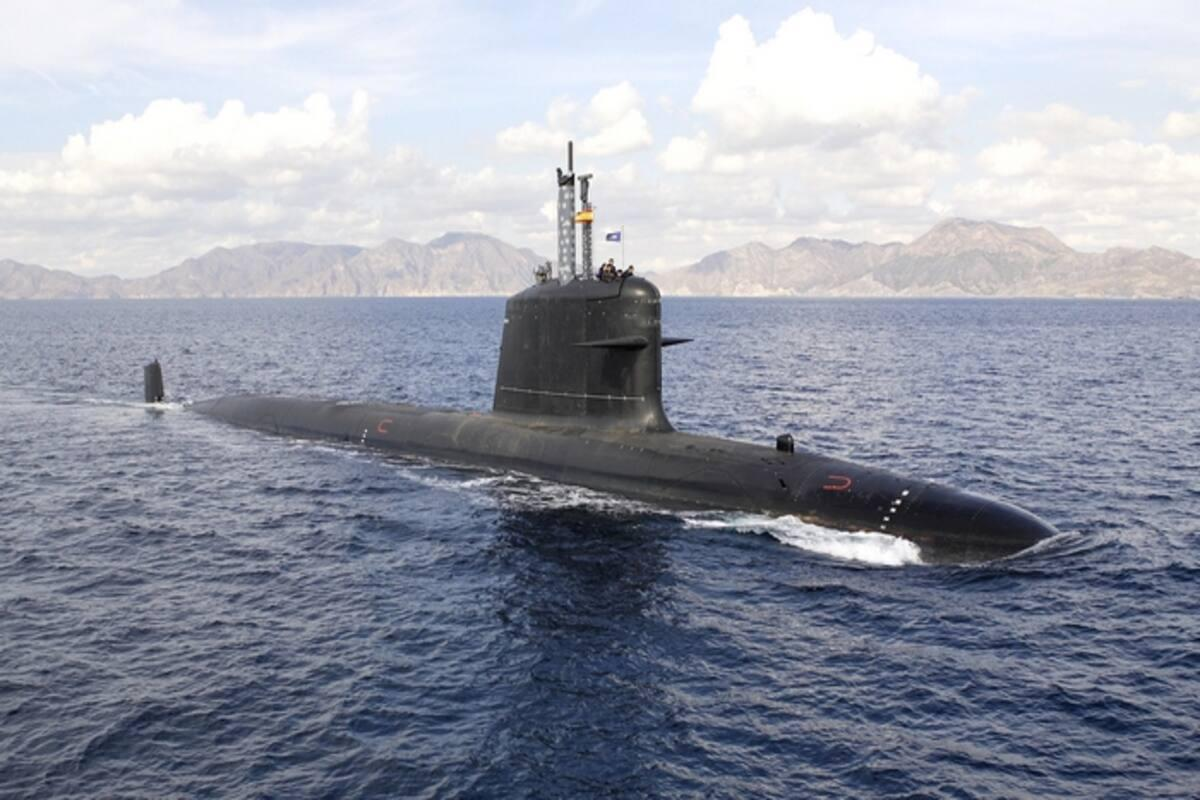Submarine: (54, 74, 1146, 682)
